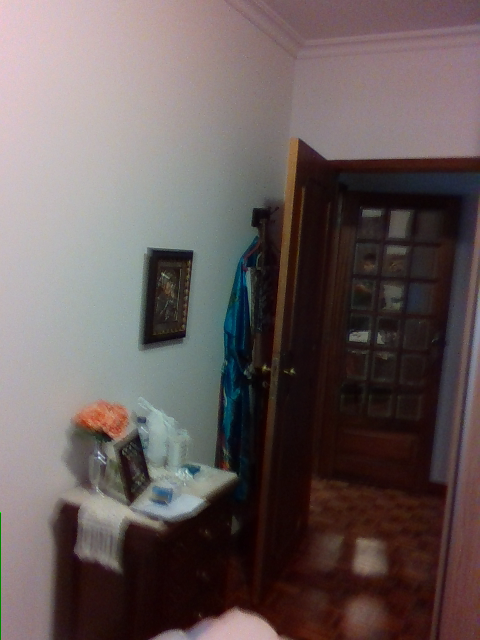open: (255, 137, 479, 610)
